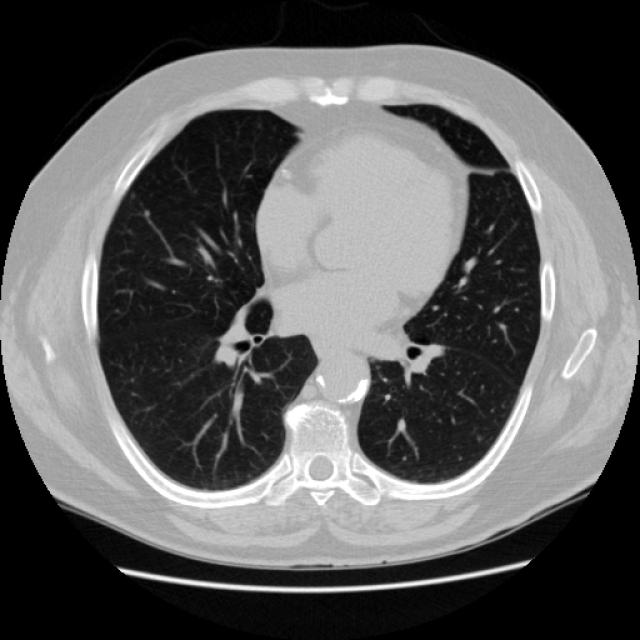nodule: (137, 204, 155, 221)
